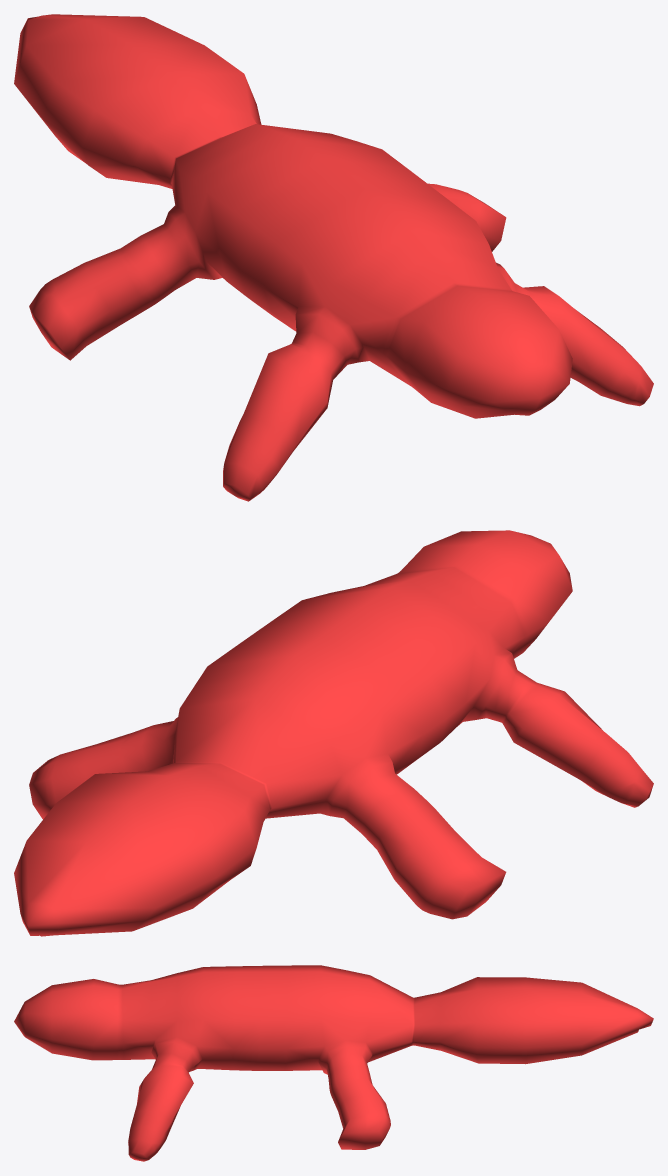
File: testContour.FBX
3 views of the same model, one above another, from view 1: azimuth 30°, elevation 25°; view 2: azimuth 150°, elevation 25°; view 3: azimuth 270°, elevation 25° (orthographic). The views are drawn at different scales.
Parts seen in each view (by area): view 1: lezard outer; view 2: lezard outer; view 3: lezard outer.
Boxes of the visible parts, x1,y1,x2,y2 form: lezard outer: (14, 14, 653, 501); lezard outer: (14, 530, 653, 936); lezard outer: (14, 965, 653, 1161).
Bounding box in the file's own units: 290 × 125 × 562.
